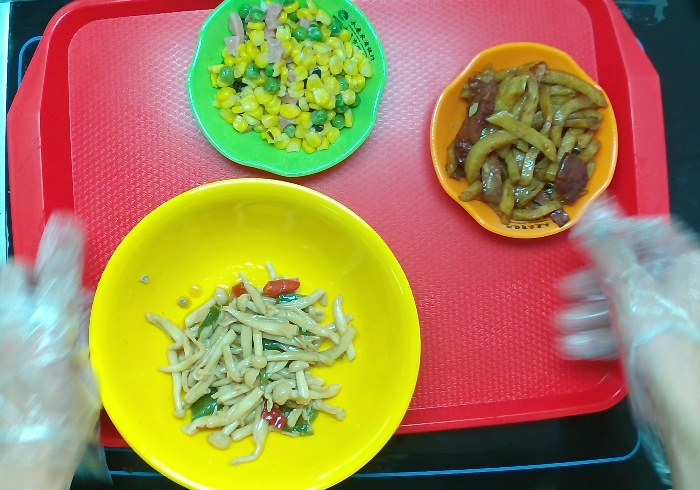YKMZ-Huang_Se_Tang_Wan: (83, 178, 424, 490)
YKMZ-Ju_Se_Ao_Bian_Wan: (432, 39, 620, 244)
YKMZ-Lv_Se_Ao_Bian_Wan: (184, 7, 388, 181)
